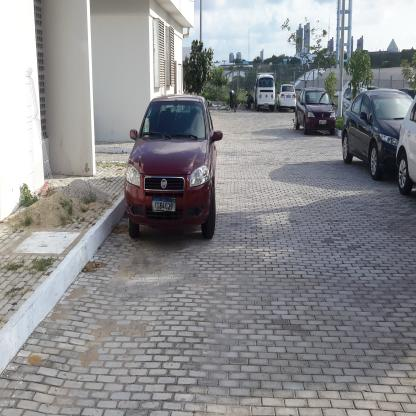PlacaM: (152, 197, 176, 212)
